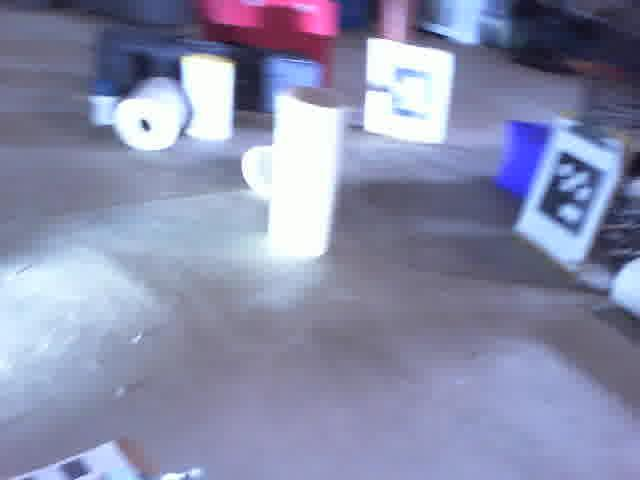coral: (263, 88, 349, 257), (241, 146, 276, 195)
